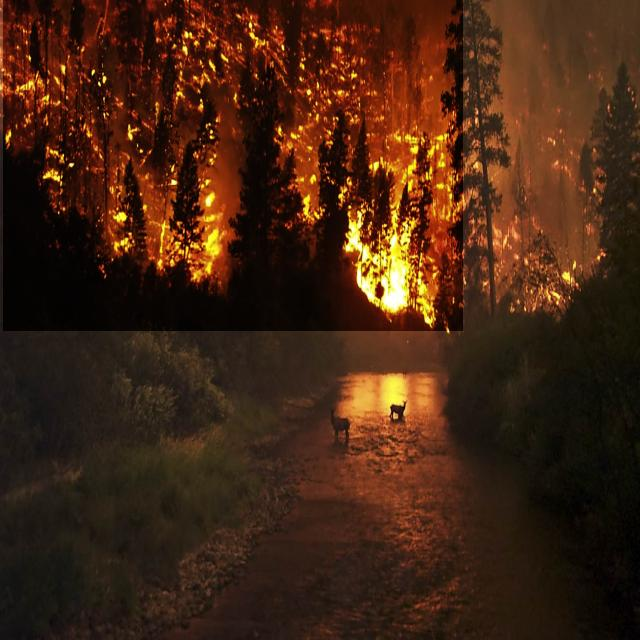Fire: (3, 0, 463, 331)
